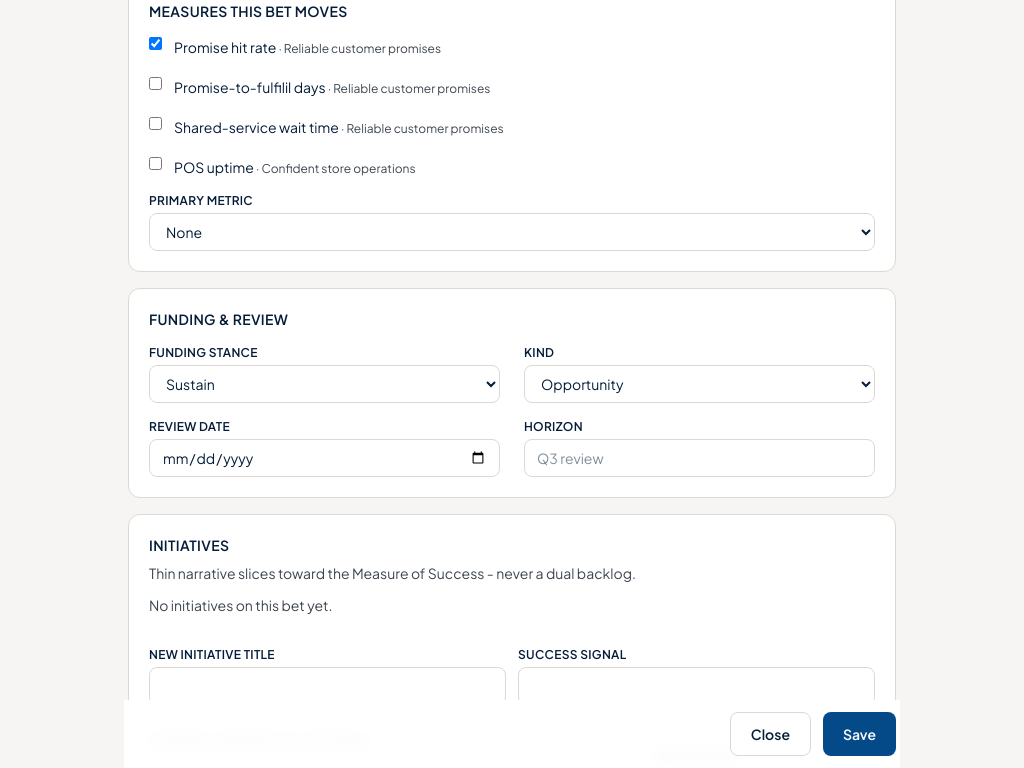
Test: BetDetailView › saves funding stance, kind, review timing, and metric links
This screenshot has width=1024, height=768.
(page scrolled)
Select "Explore" in the dropdown labelled "Funding stance": (324, 384) [149,365,500,403]
Select "Capability" in the dropdown labelled "Kind": (700, 384) [524,365,875,403]
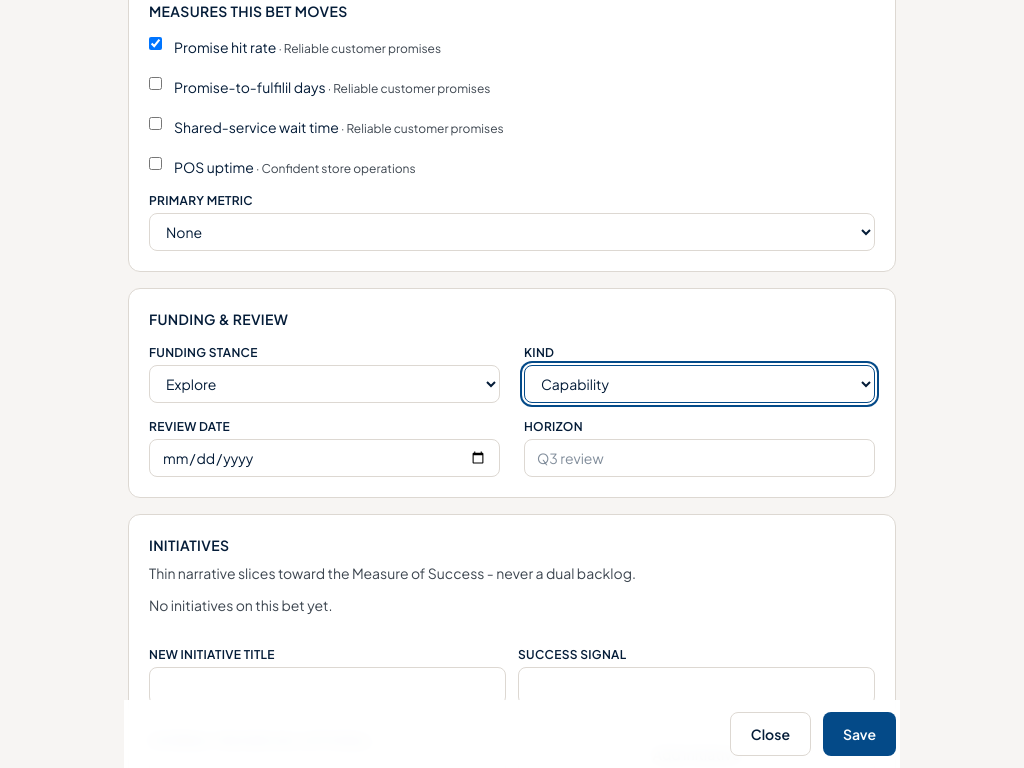
In the date field labelled "Review date": (324, 458) [149,439,500,477], type "2026-11-15"
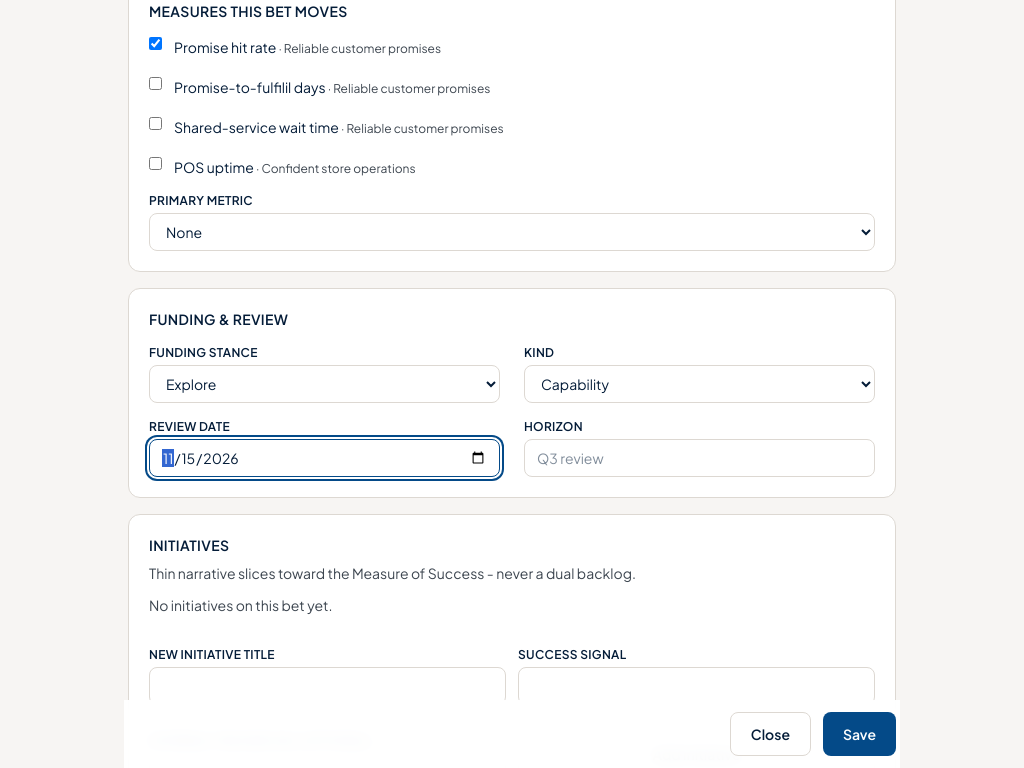
In the field labelled "Horizon": (700, 458) [524,439,875,477], type "Q4 review"
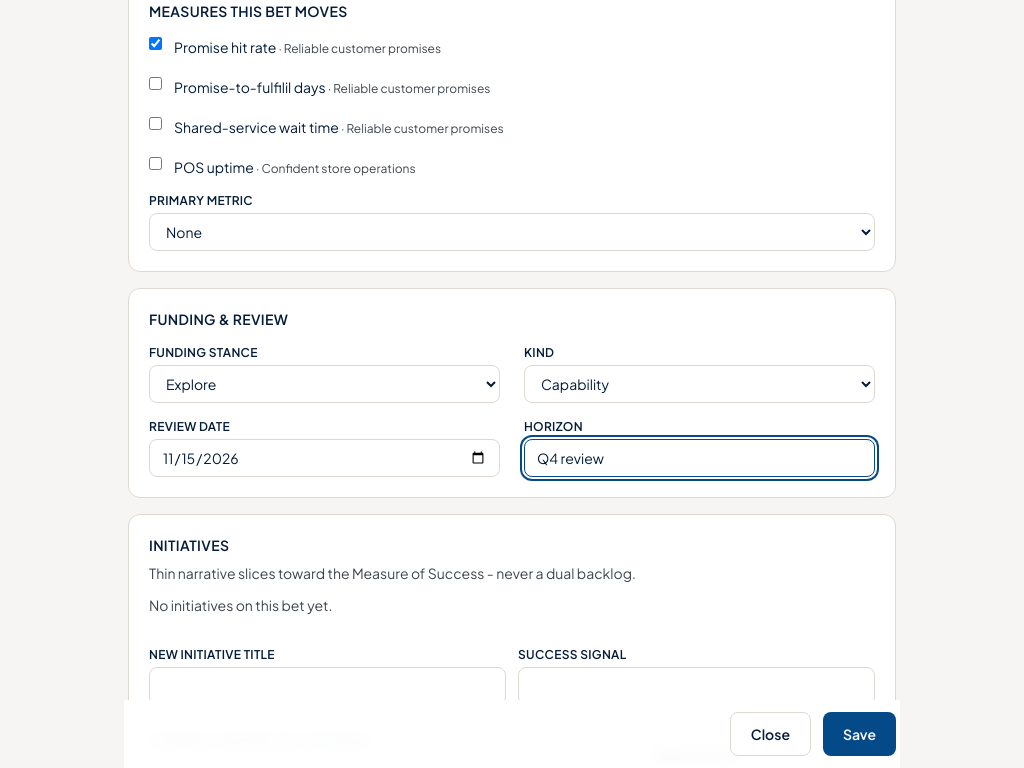
Click the checkbox labelled "Promise-to-fulfilil days · Reliable customer promises": (156, 84) [149,77,162,90]
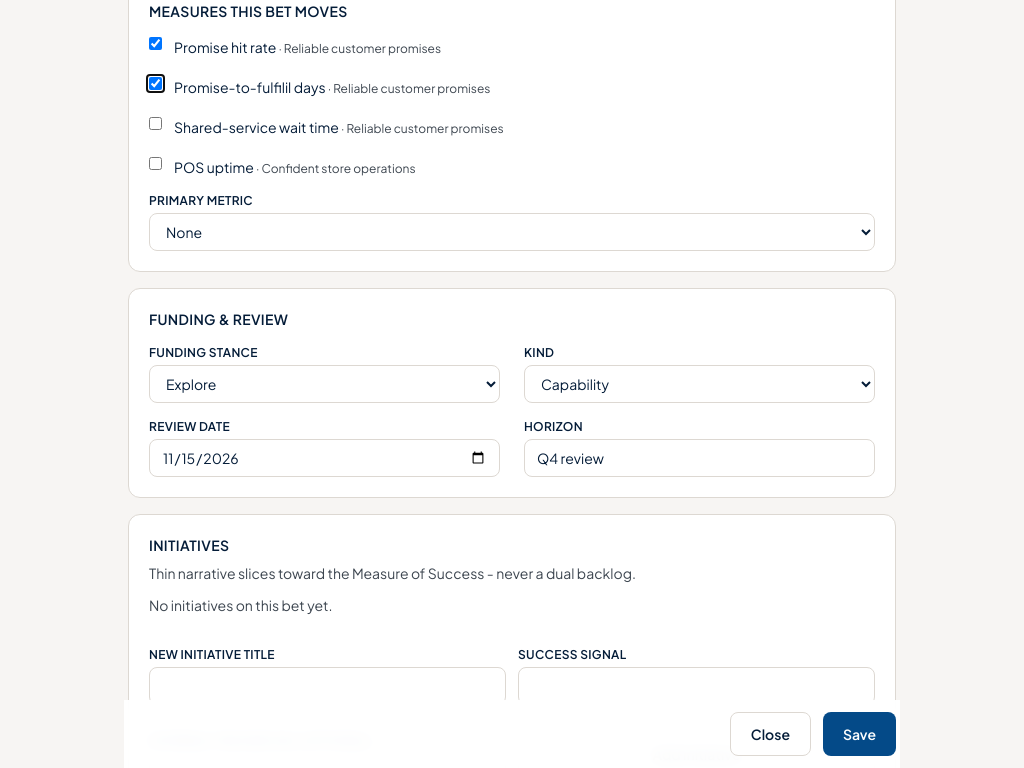
Select "Promise-to-fulfilil days" in the dropdown labelled "Primary metric": (512, 232) [149,213,875,251]
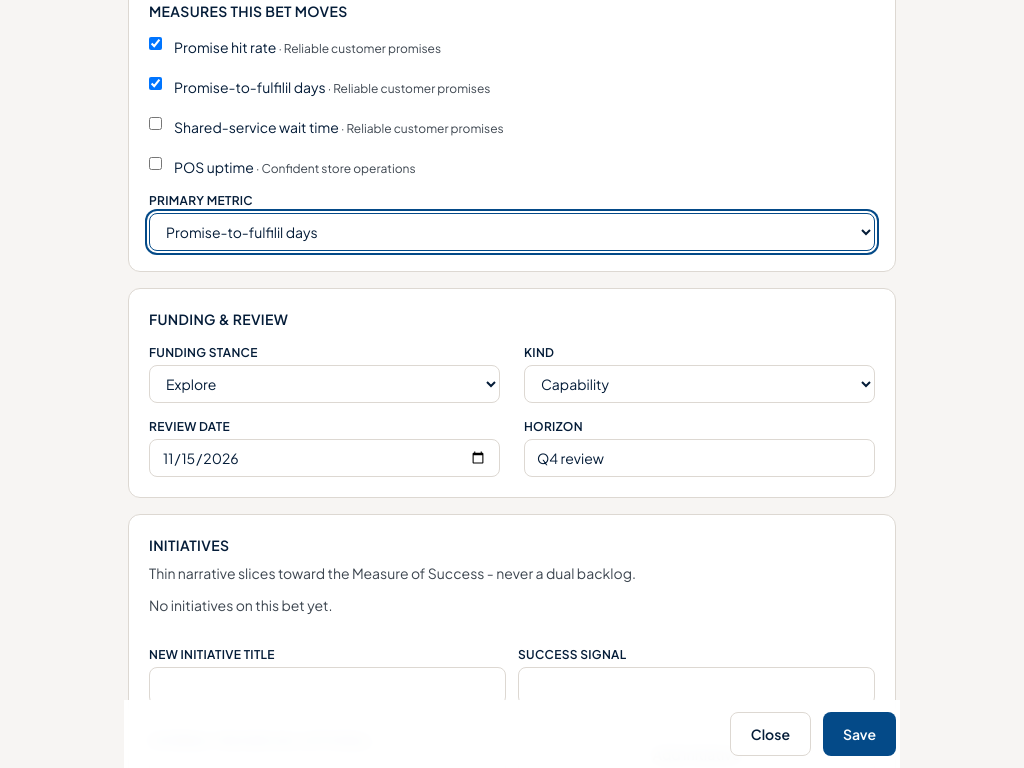
Click the button "Save": (860, 734) [823,712,896,756]
(page scrolled)
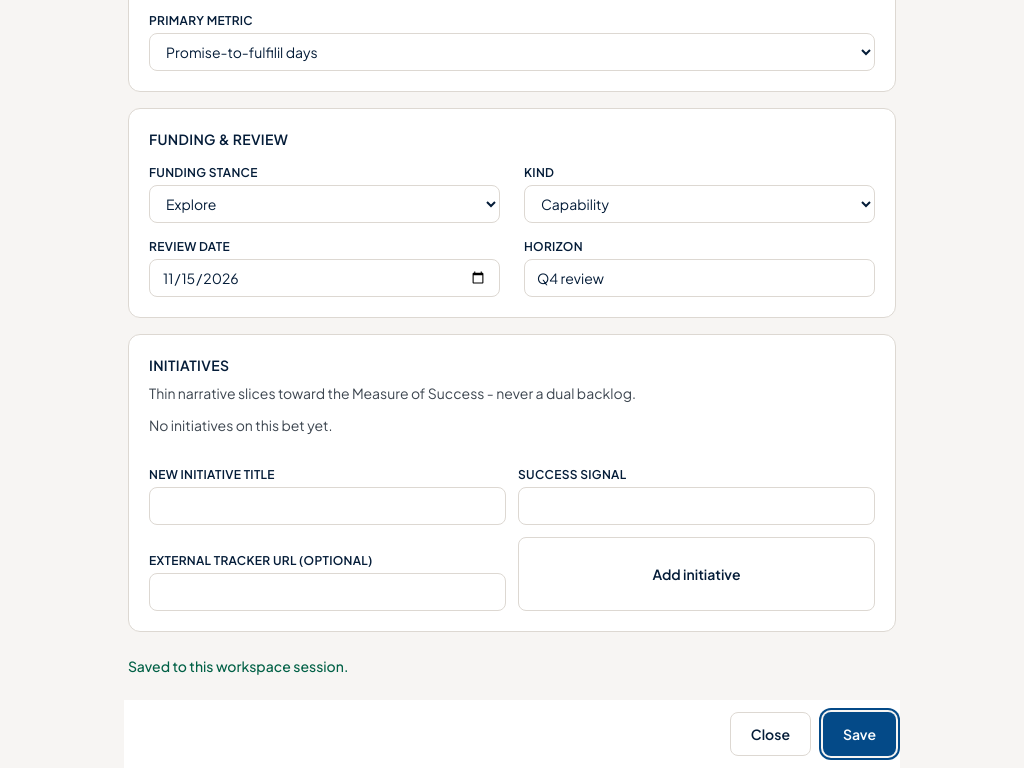
expect the text "Saved to this workspace session." is shown: met, box [128,657,348,675]
